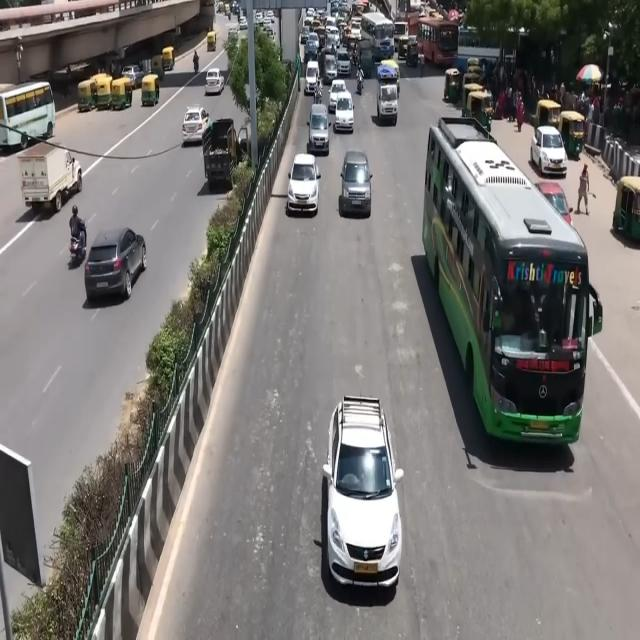auto: (93, 74, 113, 110), (111, 77, 132, 110), (77, 78, 97, 112), (141, 72, 160, 106), (151, 54, 166, 79), (162, 46, 174, 72), (206, 30, 217, 51)
bike-auto: (69, 204, 86, 254), (314, 82, 323, 105), (356, 73, 364, 95), (193, 50, 199, 73)
